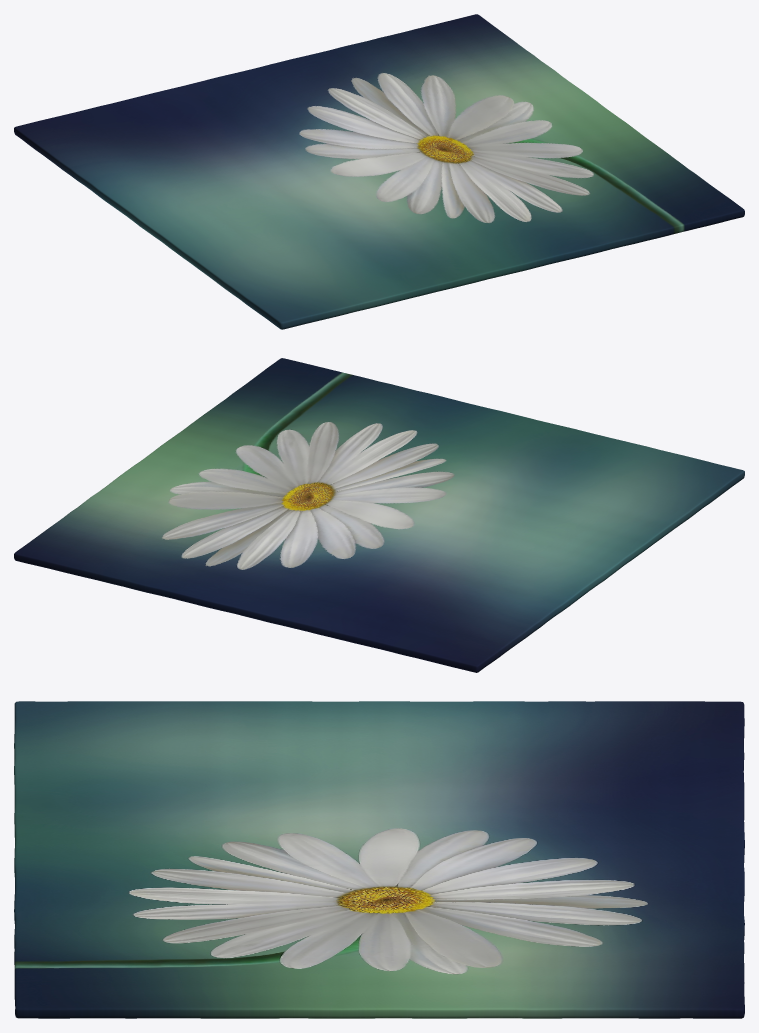
The picture shows the model from 3 angles, top to bottom: view 1: azimuth 30°, elevation 25°; view 2: azimuth 150°, elevation 25°; view 3: azimuth 270°, elevation 25°; orthographic projection. The views are drawn at different scales.
Parts seen in each view (by area): view 1: surface1; view 2: surface1; view 3: surface1.
Boxes of the visible parts, left/top/right/bottom form: surface1: left=14, top=14, right=744, bottom=329; surface1: left=14, top=358, right=744, bottom=672; surface1: left=14, top=701, right=744, bottom=1018.
Bounding box in the file's own units: 11.5 × 0.1884 × 11.5.
Materials: 1 (1 with a texture image).
